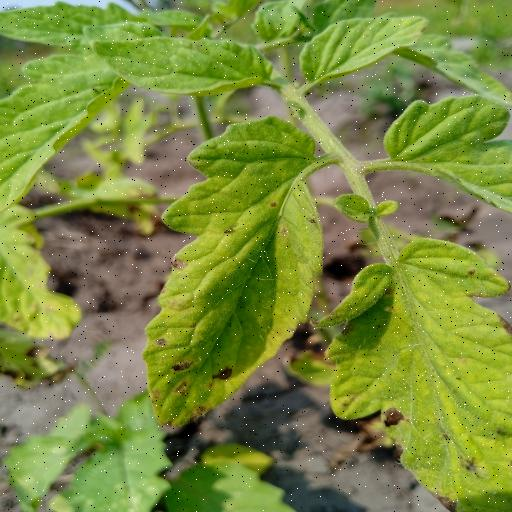Tomato_Brown_Spots: (142, 110, 338, 441), (313, 239, 511, 512)
